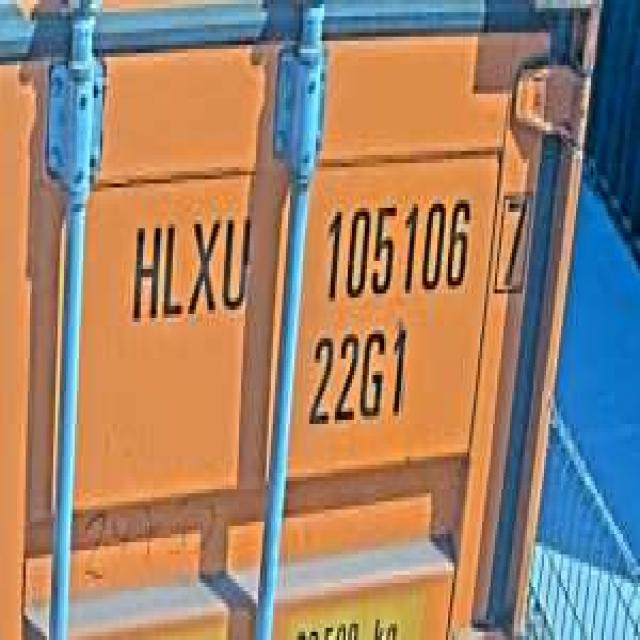dv: (488, 179, 536, 306)
owner: (126, 204, 254, 330)
serial: (320, 183, 474, 306)
size: (303, 318, 410, 436)
